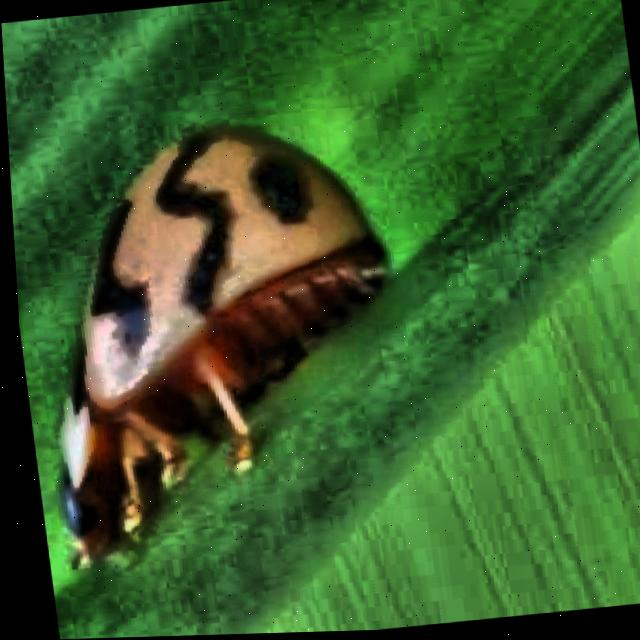Asian-Lady-beetle: (4, 73, 477, 562)
